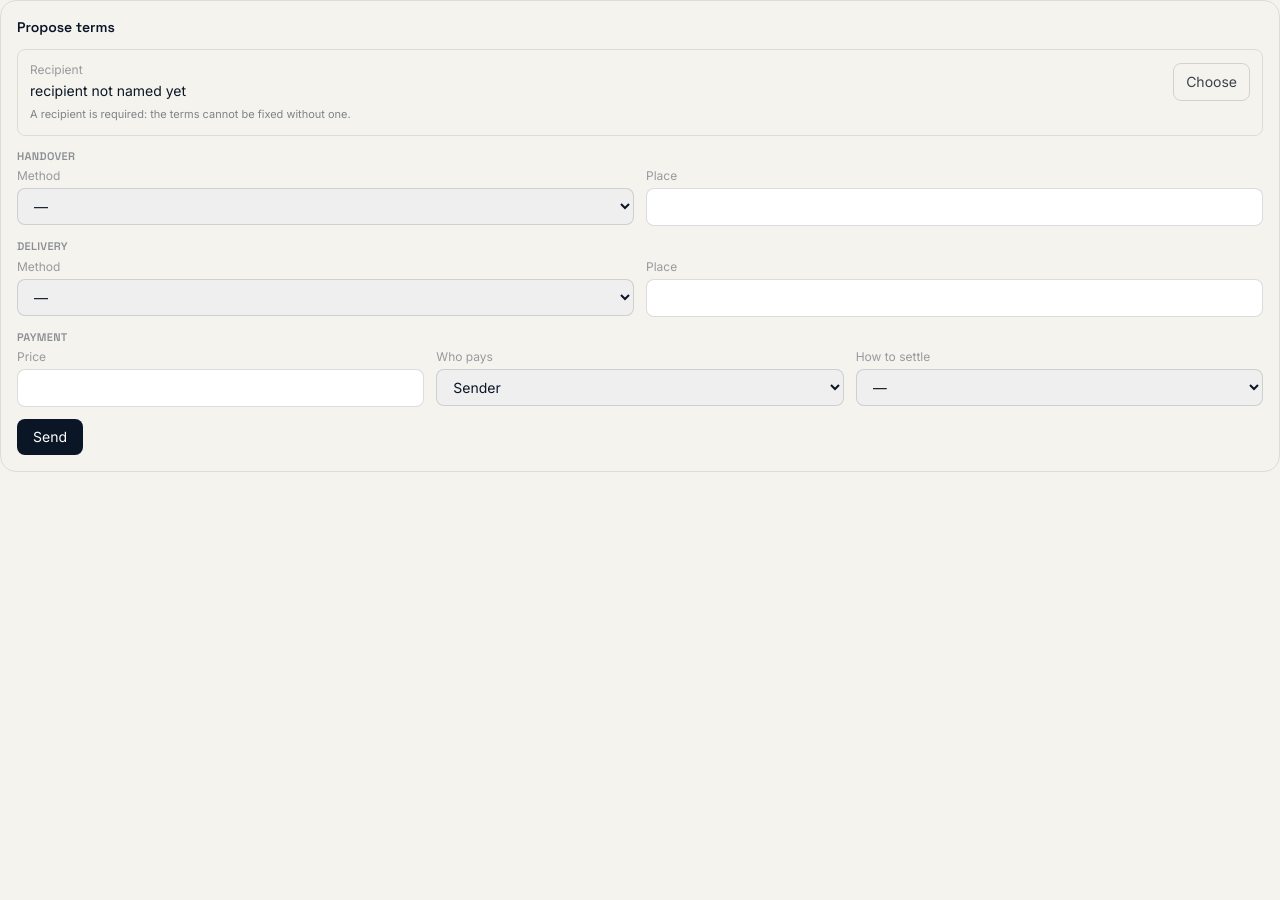
TermsProposeForm › goes back to editing without sending anything
In the number field: {"x": 221, "y": 388} 17,369 -> 424,407, type "120"
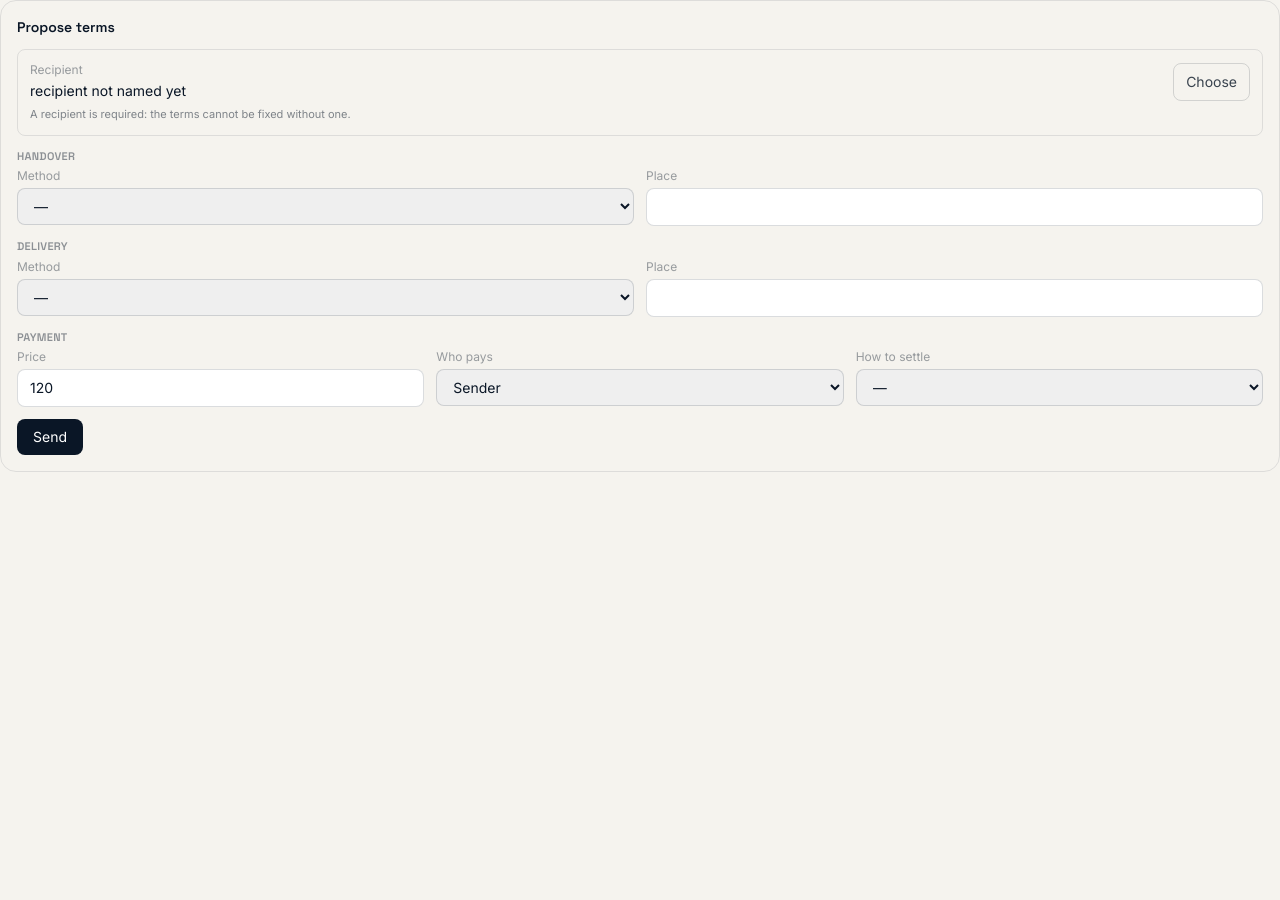
Select "Cash on delivery" in the dropdown labelled "How to settle": {"x": 1059, "y": 388} 856,369 -> 1263,406
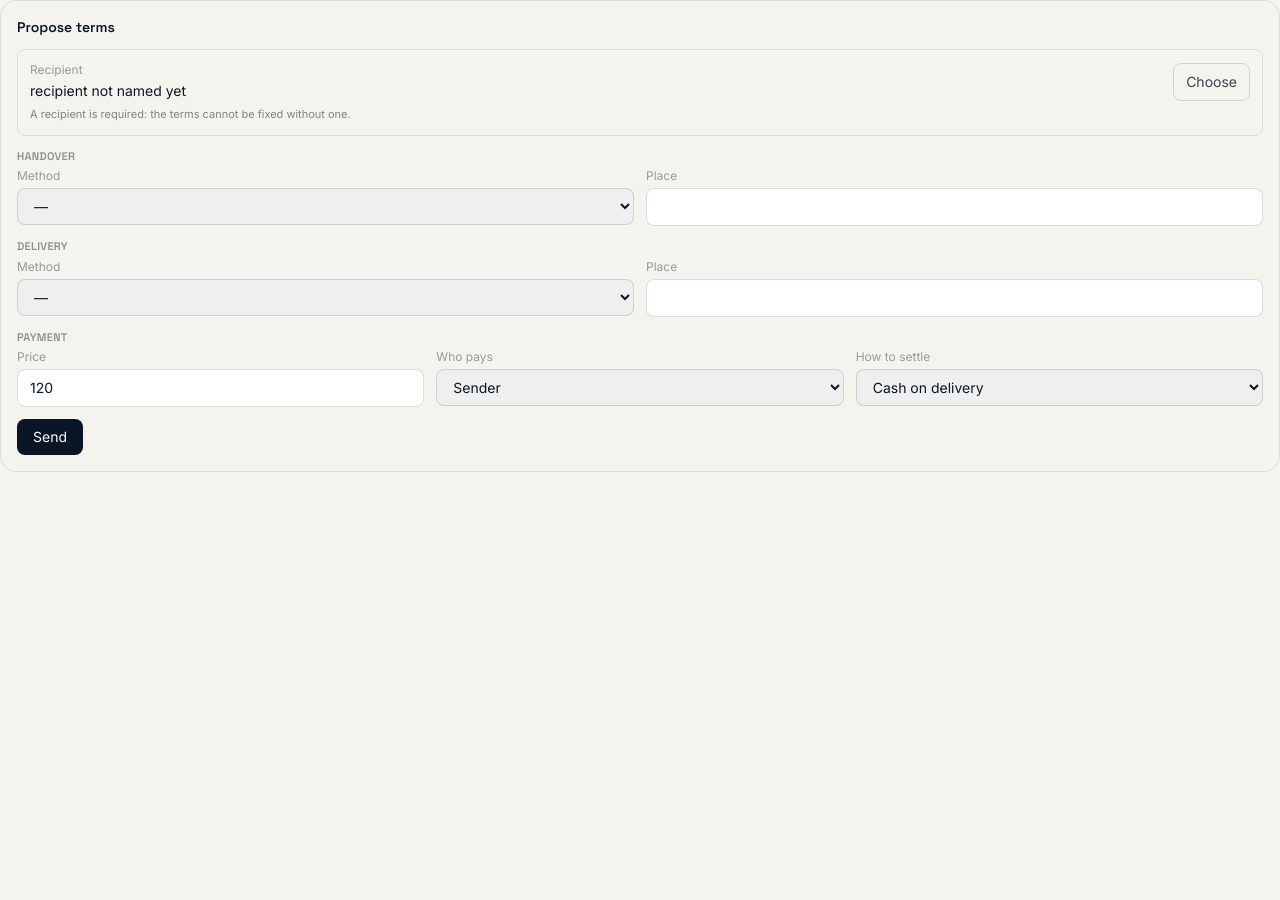
Click the button "Send": {"x": 50, "y": 437} 17,419 -> 83,455
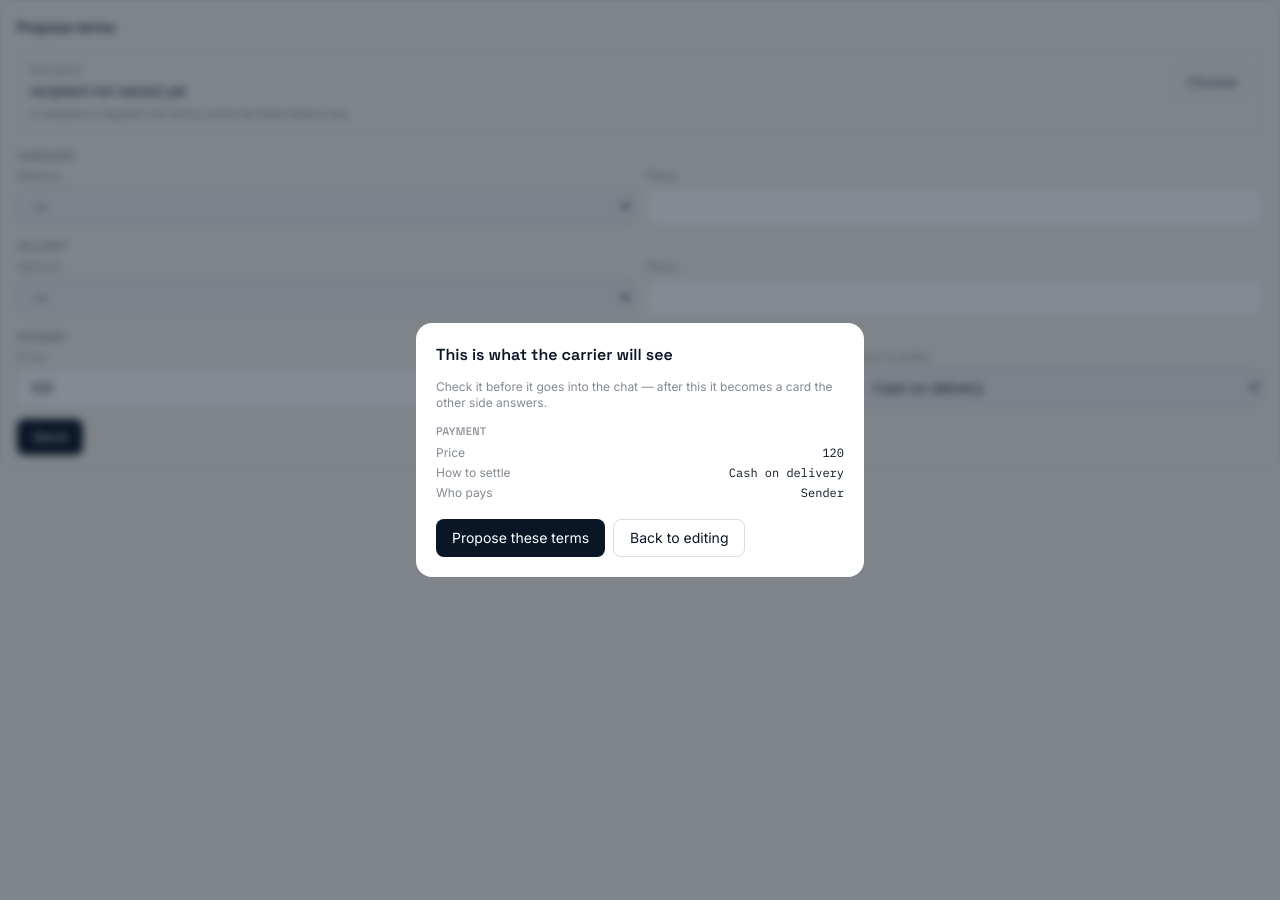
Click the button "Back to editing": {"x": 679, "y": 538} 613,519 -> 746,557
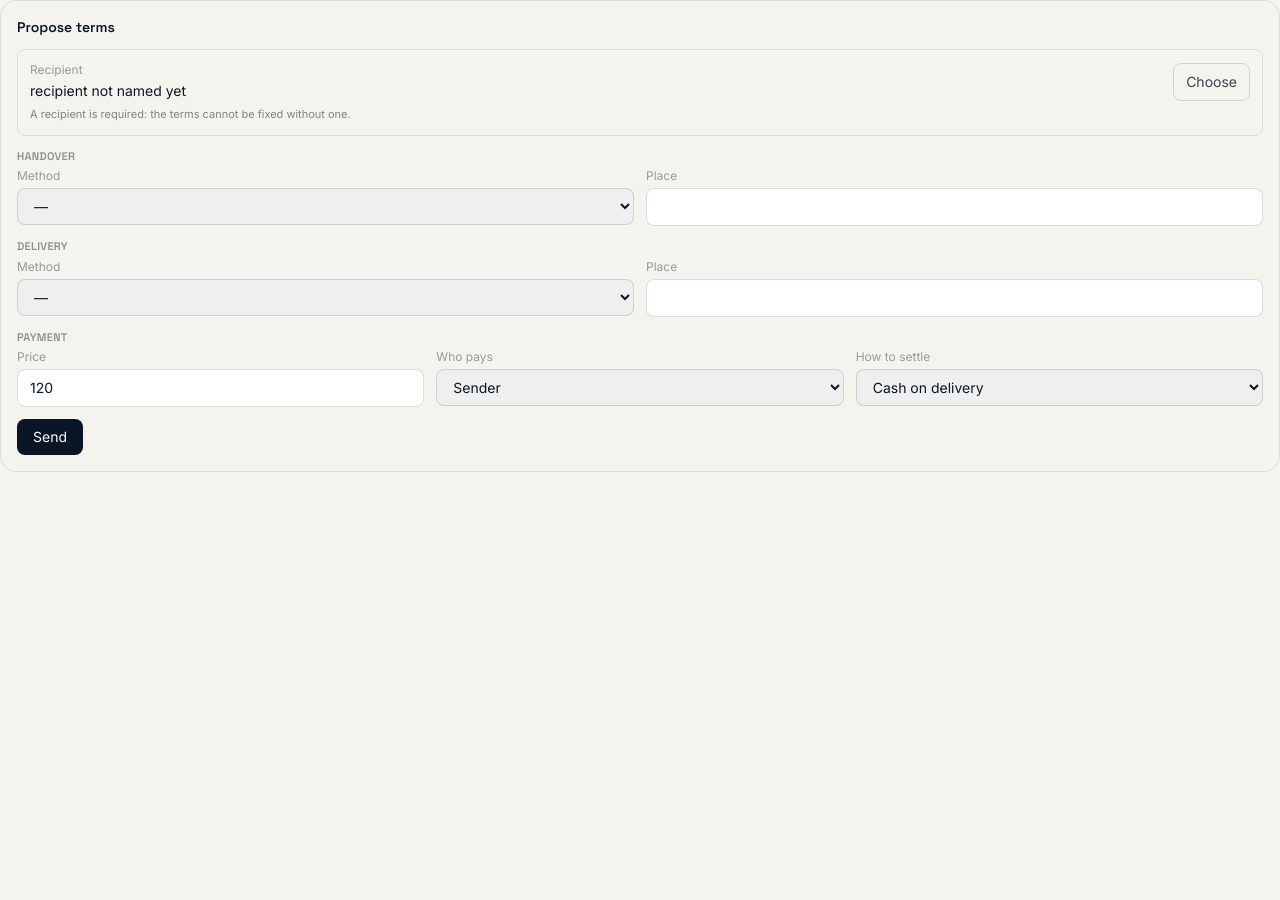
Expected: the heading "This is what the carrier will see" is gone
